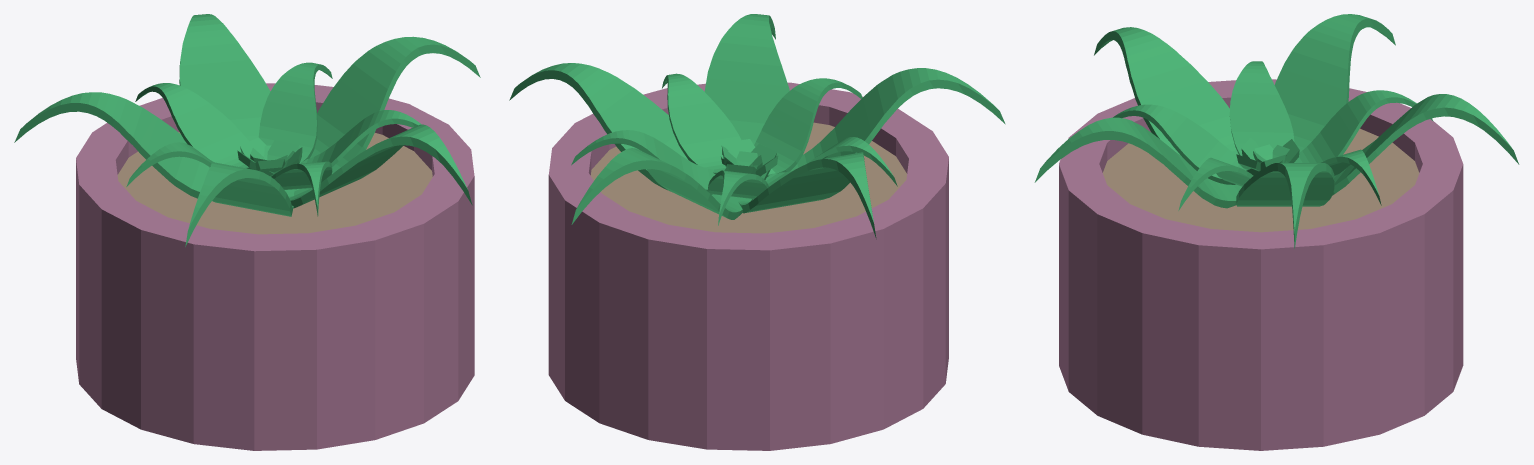
File: Planta.glb
3 renders of one model, left to right at view 1: azimuth 30°, elevation 25°; view 2: azimuth 150°, elevation 25°; view 3: azimuth 270°, elevation 25°, orthographic.
Visible parts, largest first — view 1: Mesh_Mesh_head_geo.001_lambert2SG.001; view 2: Mesh_Mesh_head_geo.001_lambert2SG.001; view 3: Mesh_Mesh_head_geo.001_lambert2SG.001.
Boxes of the visible parts, x1,y1,x2,y2 form: Mesh_Mesh_head_geo.001_lambert2SG.001: [14, 14, 480, 450]; Mesh_Mesh_head_geo.001_lambert2SG.001: [509, 14, 1005, 450]; Mesh_Mesh_head_geo.001_lambert2SG.001: [1034, 14, 1519, 450].
Bounding box in the file's own units: 23.99 × 15 × 23.99.
